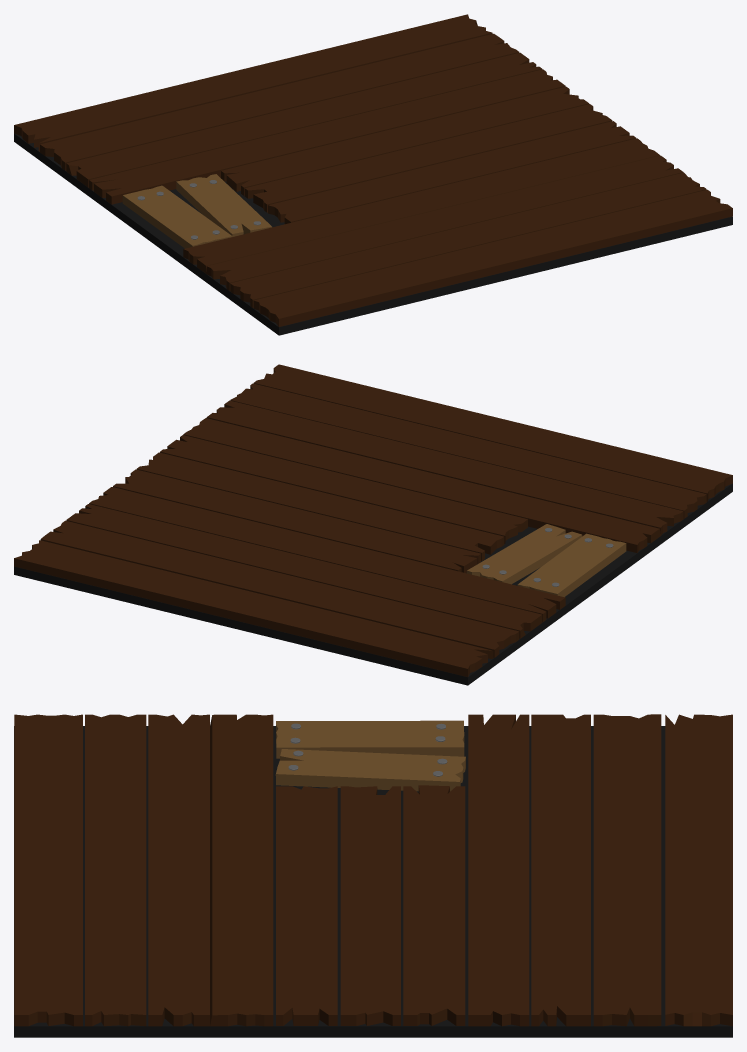
The model's file is floor_tier1.fbx.
The picture shows the model from 3 angles, top to bottom: view 1: azimuth 30°, elevation 25°; view 2: azimuth 150°, elevation 25°; view 3: azimuth 270°, elevation 25°; orthographic projection. The views are drawn at different scales.
Visible parts, largest first — view 1: Cube.002, Cube.014, Cube.011, Cube.009, Cube.005, Cube.003, Cube.004, Cube.010, Cube.008, Cube.006, Cube.007, Cube (+2 smaller); view 2: Cube.014, Cube.011, Cube.002, Cube.004, Cube.005, Cube.009, Cube.003, Cube.010, Cube.006, Cube.008, Cube.007, Cube (+2 smaller); view 3: Cube.011, Cube.002, Cube.014, Cube.005, Cube.009, Cube.003, Cube.004, Cube.010, Cube, Cube.008, Cube.006, Cube.007 (+2 smaller).
Part boxes in pixels (x1=…): Cube.002: x1=253, y1=189, x2=732, y2=326; Cube.014: x1=14, y1=14, x2=492, y2=151; Cube.011: x1=40, y1=33, x2=519, y2=170; Cube.009: x1=89, y1=69, x2=565, y2=204; Cube.005: x1=183, y1=138, x2=659, y2=273; Cube.003: x1=230, y1=172, x2=706, y2=307; Cube.004: x1=206, y1=155, x2=683, y2=290; Cube.010: x1=66, y1=52, x2=542, y2=187; Cube.008: x1=221, y1=86, x2=589, y2=195; Cube.006: x1=268, y1=121, x2=636, y2=224; Cube.007: x1=244, y1=104, x2=612, y2=212; Cube: x1=14, y1=133, x2=732, y2=335; Cube.014: x1=14, y1=540, x2=493, y2=676; Cube.011: x1=40, y1=520, x2=519, y2=657; Cube.002: x1=253, y1=364, x2=732, y2=501; Cube.004: x1=206, y1=400, x2=683, y2=535; Cube.005: x1=183, y1=418, x2=660, y2=552; Cube.009: x1=89, y1=487, x2=565, y2=621; Cube.003: x1=230, y1=383, x2=706, y2=518; Cube.010: x1=66, y1=504, x2=542, y2=638; Cube.006: x1=160, y1=435, x2=527, y2=543; Cube.008: x1=113, y1=469, x2=480, y2=572; Cube.007: x1=136, y1=452, x2=504, y2=560; Cube: x1=14, y1=483, x2=732, y2=685; Cube.011: x1=593, y1=714, x2=661, y2=1026; Cube.002: x1=14, y1=714, x2=82, y2=1026; Cube.014: x1=665, y1=714, x2=732, y2=1026; Cube.005: x1=210, y1=714, x2=273, y2=1026; Cube.009: x1=468, y1=714, x2=529, y2=1026; Cube.003: x1=85, y1=714, x2=146, y2=1026; Cube.004: x1=148, y1=714, x2=209, y2=1026; Cube.010: x1=531, y1=714, x2=590, y2=1026; Cube: x1=14, y1=726, x2=732, y2=1037; Cube.008: x1=403, y1=785, x2=465, y2=1025; Cube.006: x1=276, y1=786, x2=337, y2=1025; Cube.007: x1=340, y1=786, x2=400, y2=1025.
Bounding box in the file's own units: 655 × 24.71 × 662.
